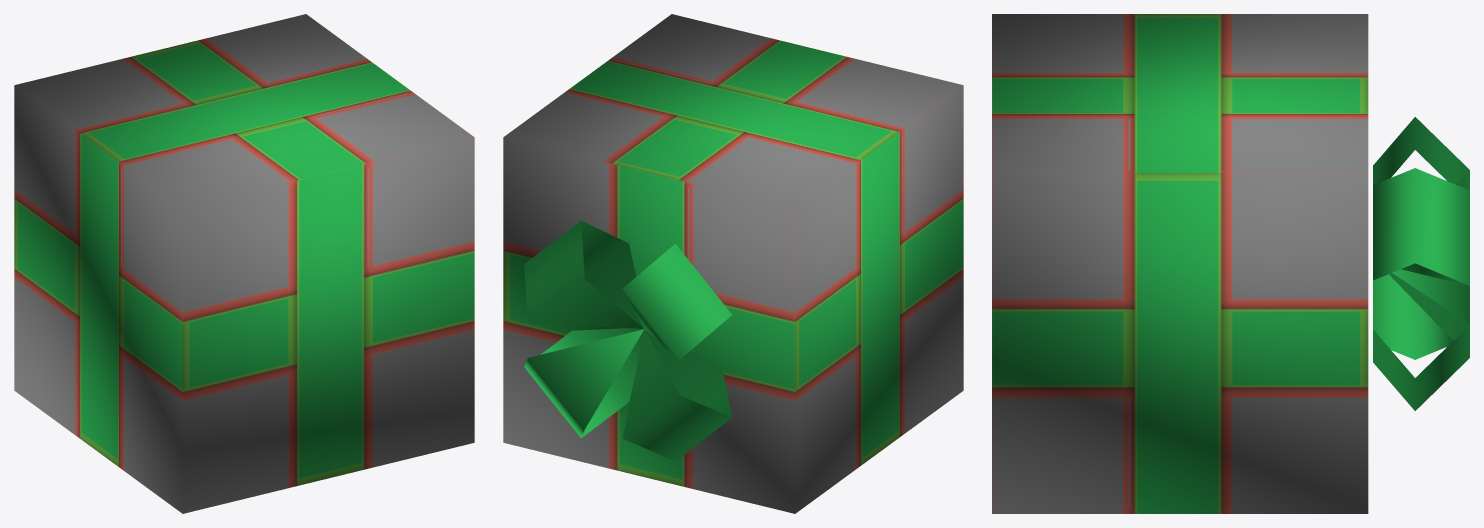
File: Present_red_a.fbx
3 views of the same model, side by side, from view 1: azimuth 30°, elevation 25°; view 2: azimuth 150°, elevation 25°; view 3: azimuth 270°, elevation 25° (orthographic). The views are drawn at different scales.
Parts seen in each view (by area): view 1: Present_red_a; view 2: Present_red_a; view 3: Present_red_a.
Boxes of the visible parts, x1,y1,x2,y2 form: Present_red_a: [14, 14, 474, 513]; Present_red_a: [503, 14, 963, 513]; Present_red_a: [992, 14, 1469, 513].
Bounding box in the file's own units: 49.8 × 49.8 × 63.24.
